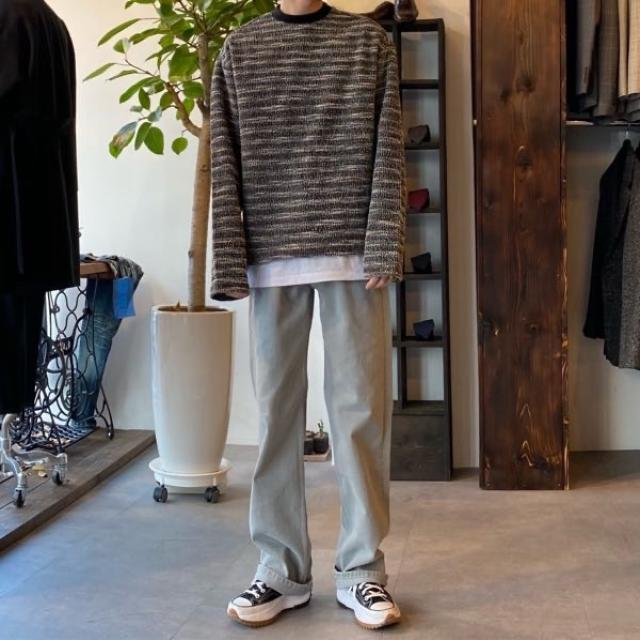denimpants: (250, 278, 393, 591)
longsleeve: (206, 7, 406, 302)
